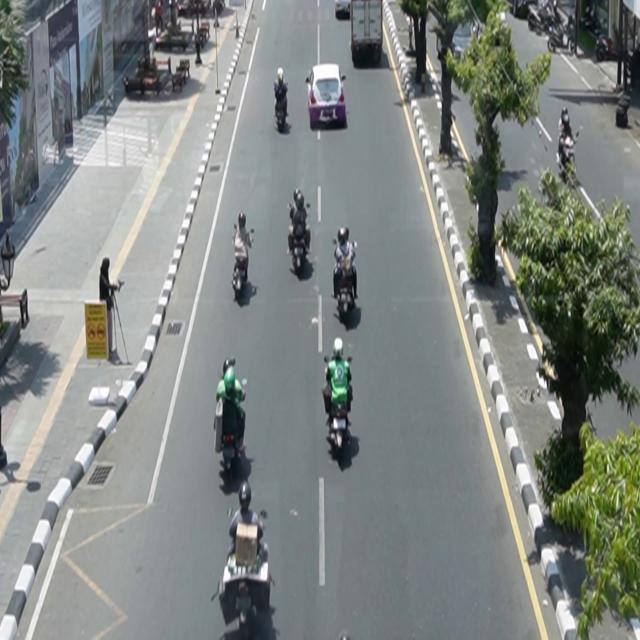car: (306, 63, 348, 130)
